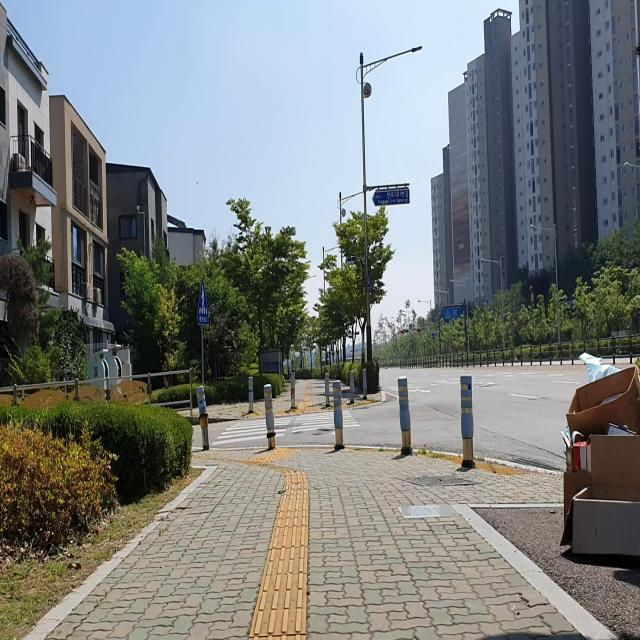횡단보도: (211, 408, 361, 446)
